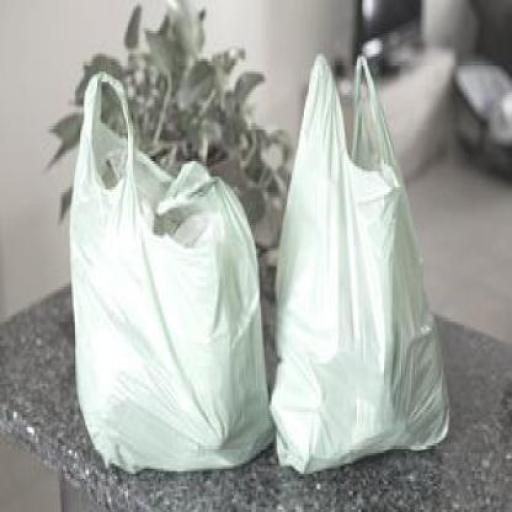plastic bag: (64, 70, 282, 489), (262, 47, 460, 483)
